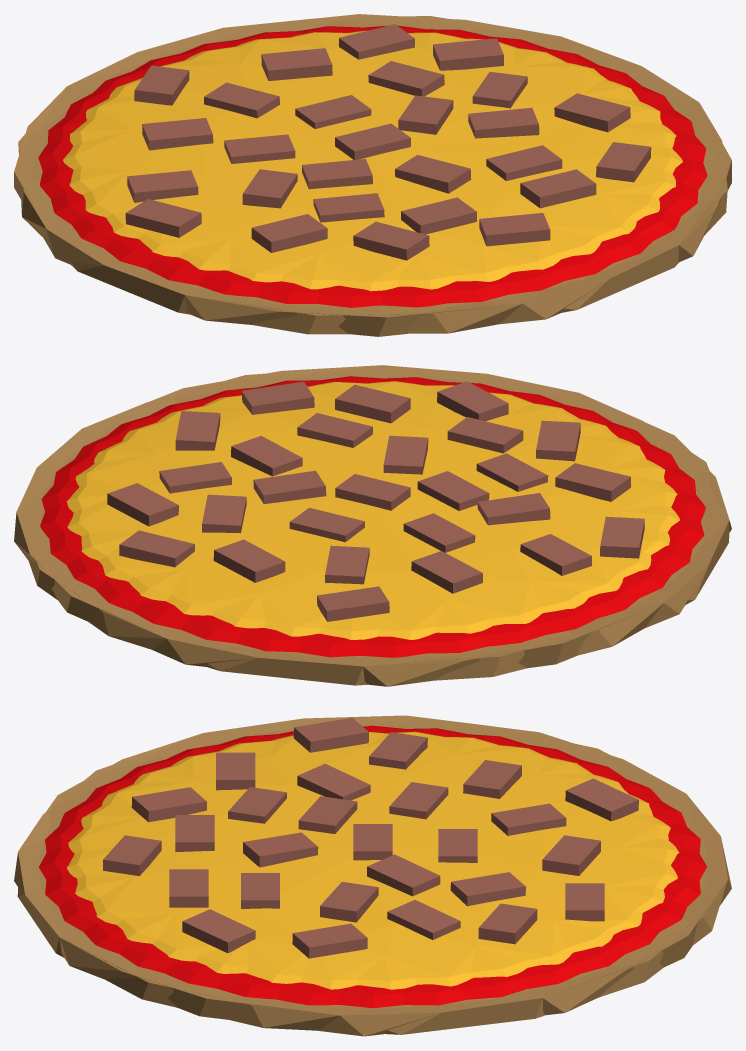
Rendered from modelo1.glb.
The picture shows the model from 3 angles, top to bottom: view 1: azimuth 30°, elevation 25°; view 2: azimuth 150°, elevation 25°; view 3: azimuth 270°, elevation 25°; orthographic projection.
Parts seen in each view (by area): view 1: pizza_bacon_cocinada; view 2: pizza_bacon_cocinada; view 3: pizza_bacon_cocinada.
Boxes of the visible parts, x1,y1,x2,y2 form: pizza_bacon_cocinada: (14, 14, 731, 336); pizza_bacon_cocinada: (14, 365, 731, 686); pizza_bacon_cocinada: (14, 715, 731, 1036).
Bounding box in the file's own units: 2.02 × 0.1494 × 2.02.
